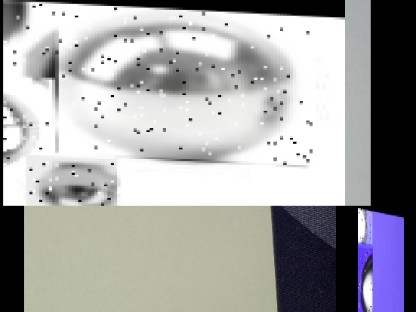ironball: (55, 2, 309, 162), (0, 0, 74, 78), (0, 75, 48, 178), (22, 154, 114, 205), (357, 241, 372, 312), (357, 207, 371, 248)
